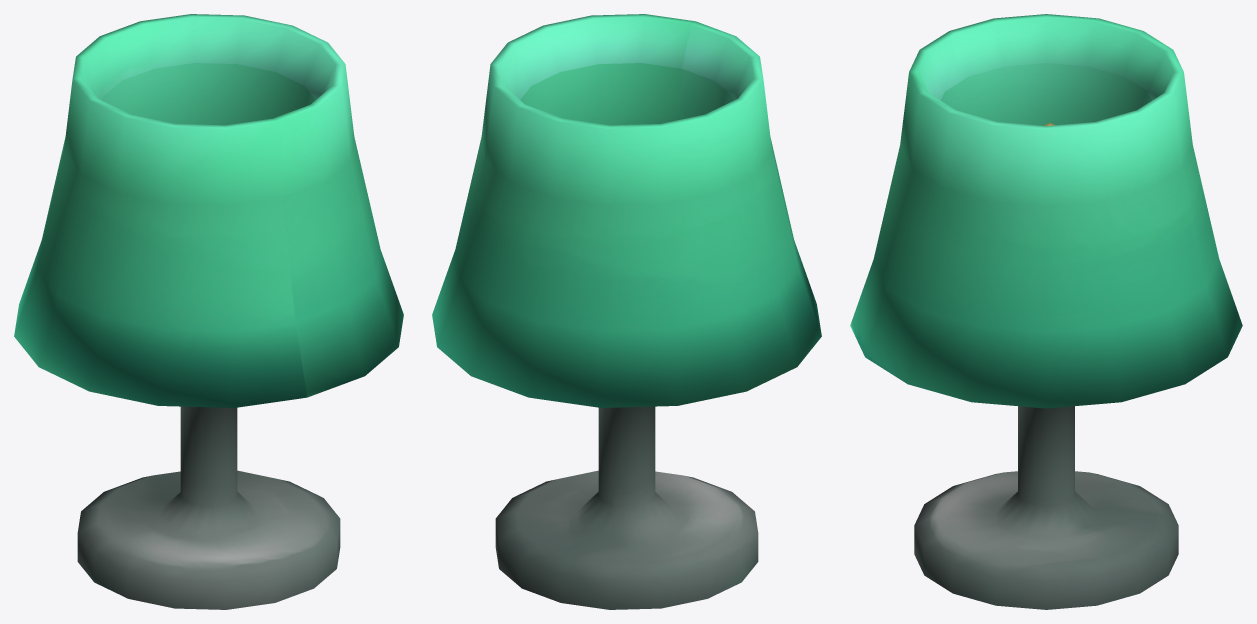
The model's file is Little_Lamp.FBX.
3 renders of one model, left to right at view 1: azimuth 30°, elevation 25°; view 2: azimuth 150°, elevation 25°; view 3: azimuth 270°, elevation 25°, orthographic.
Visible parts, largest first — view 1: Little_lamp; view 2: Little_lamp; view 3: Little_lamp.
Part boxes in pixels (x1,y1,x2,y2): Little_lamp: (14,14,403,609); Little_lamp: (432,14,821,609); Little_lamp: (850,14,1242,609).
Bounding box in the file's own units: 23.86 × 32.32 × 23.86.
Materials: 1 (1 with a texture image).
